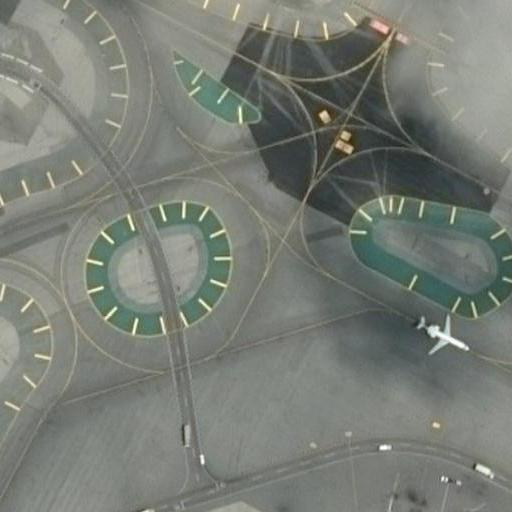Aircraft: (408, 306, 469, 360)
